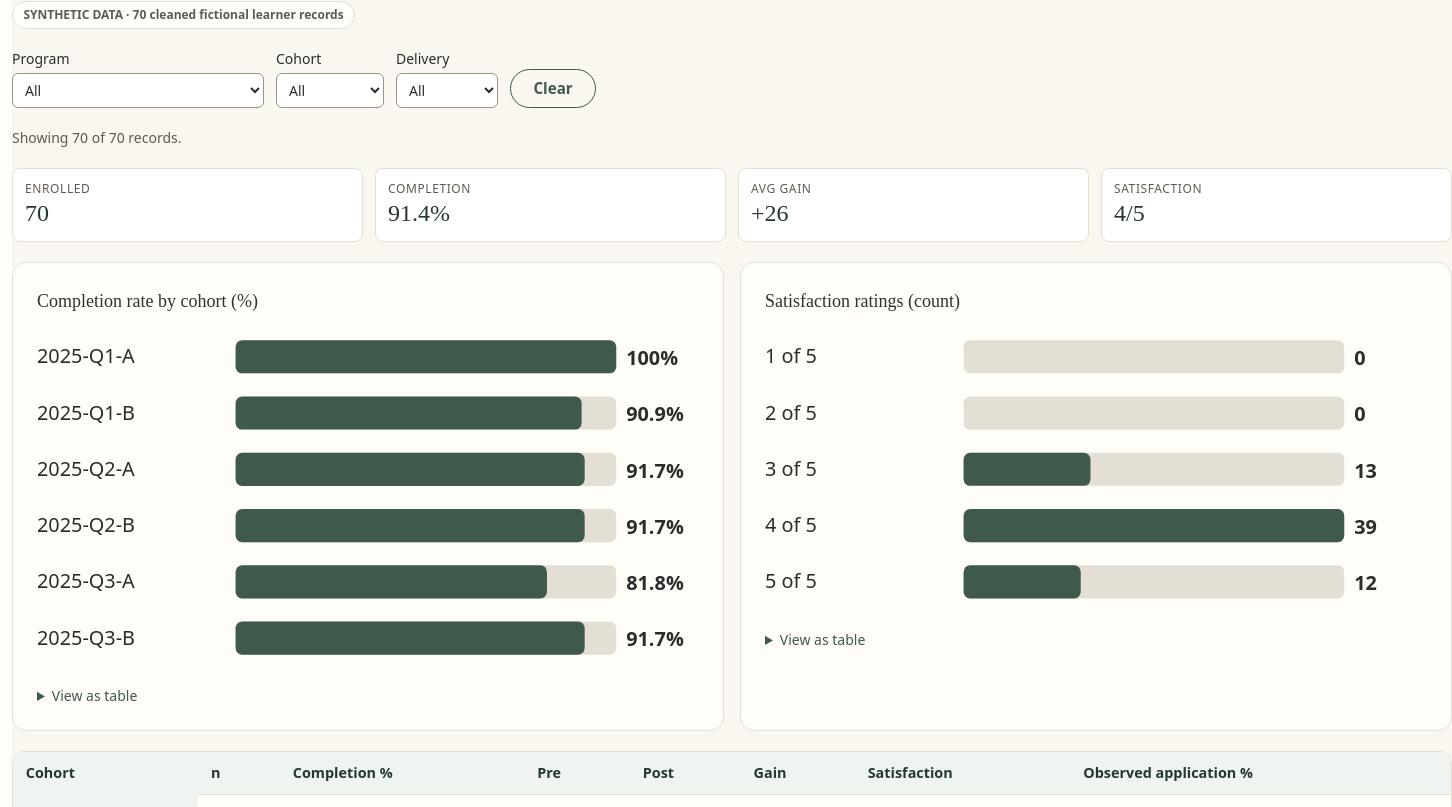
Test: Explorer › filters records and updates the count
Select "Blended" in the dropdown labelled "Delivery" at (447, 90), box [396,73,498,108]
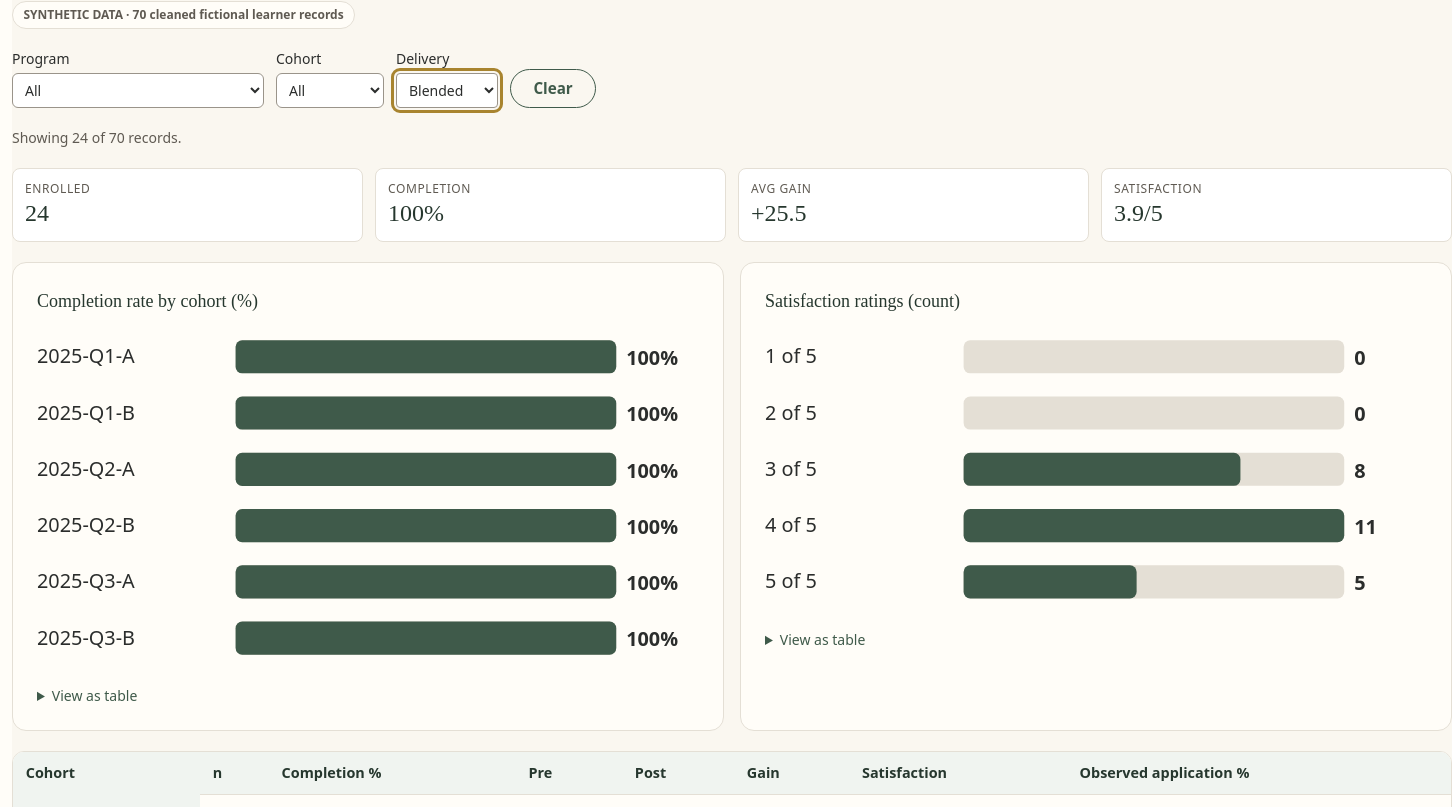
Expected: the text "Showing 70 of 70 records." no longer shows "Showing 70 of 70"
